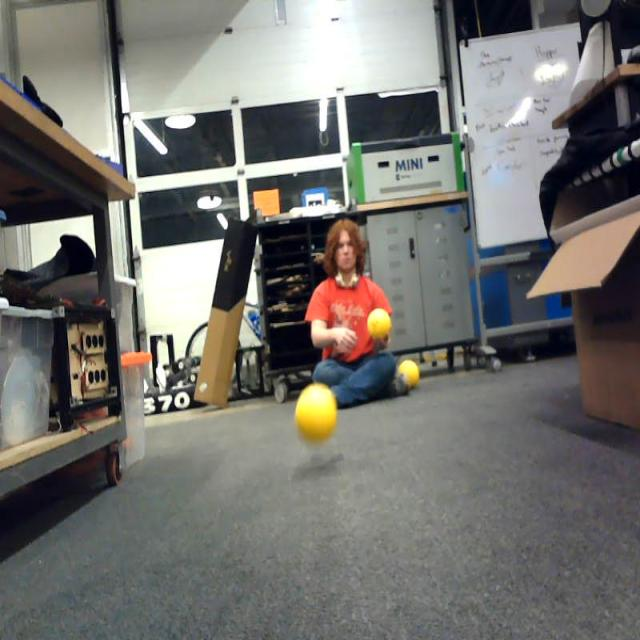Fuel: (296, 383, 336, 442), (368, 308, 391, 341), (398, 361, 419, 389)
